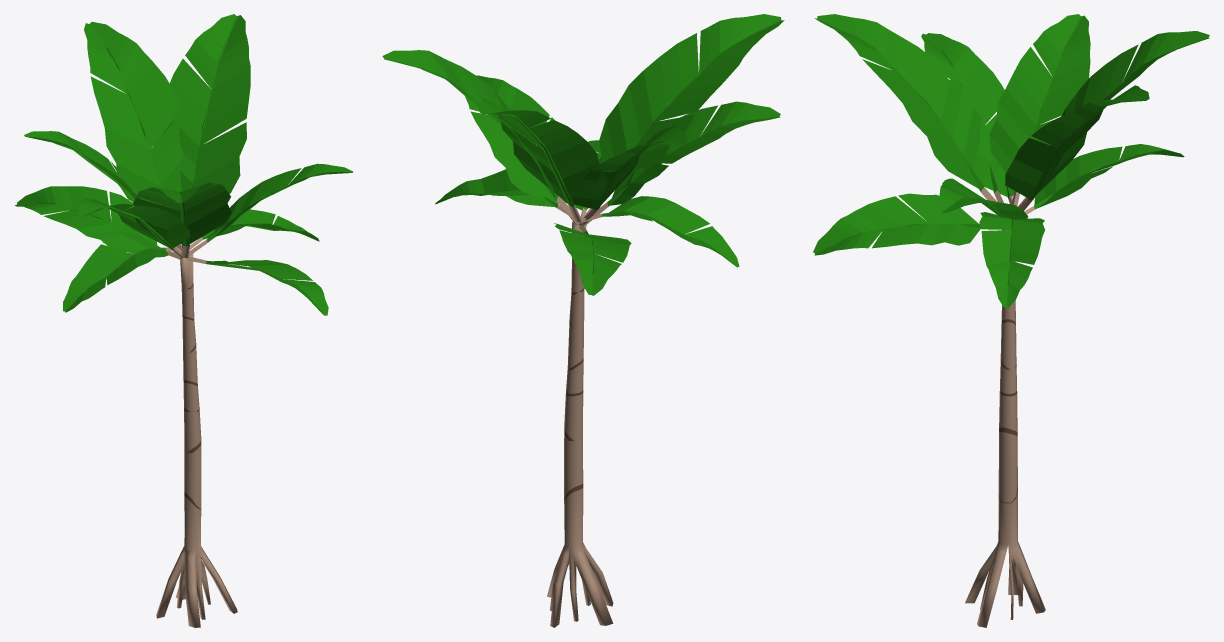
File: Palm_02.fbx
3 views of the same model, side by side, from view 1: azimuth 30°, elevation 25°; view 2: azimuth 150°, elevation 25°; view 3: azimuth 270°, elevation 25° (orthographic). The views are drawn at different scales.
Visible parts, largest first — view 1: Palm_02_canopy, Palm_02; view 2: Palm_02_canopy, Palm_02; view 3: Palm_02_canopy, Palm_02.
Boxes of the visible parts, bbox=[...] form: Palm_02_canopy: bbox=[15, 14, 352, 315]; Palm_02: bbox=[156, 254, 237, 627]; Palm_02_canopy: bbox=[382, 14, 784, 295]; Palm_02: bbox=[547, 221, 613, 627]; Palm_02_canopy: bbox=[813, 14, 1209, 307]; Palm_02: bbox=[965, 229, 1045, 627].
Bounding box in the file's own units: 5.16 × 9.19 × 5.83.
